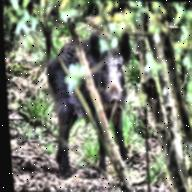boar: (27, 31, 153, 164)
